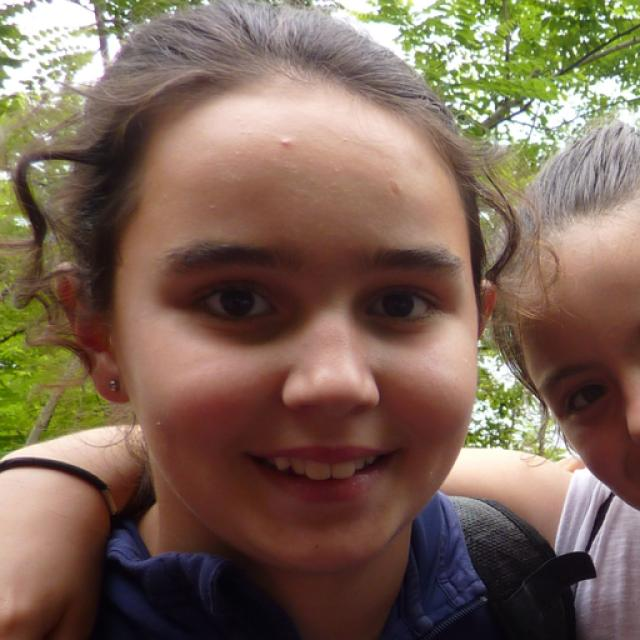Acne: (270, 130, 298, 157)
